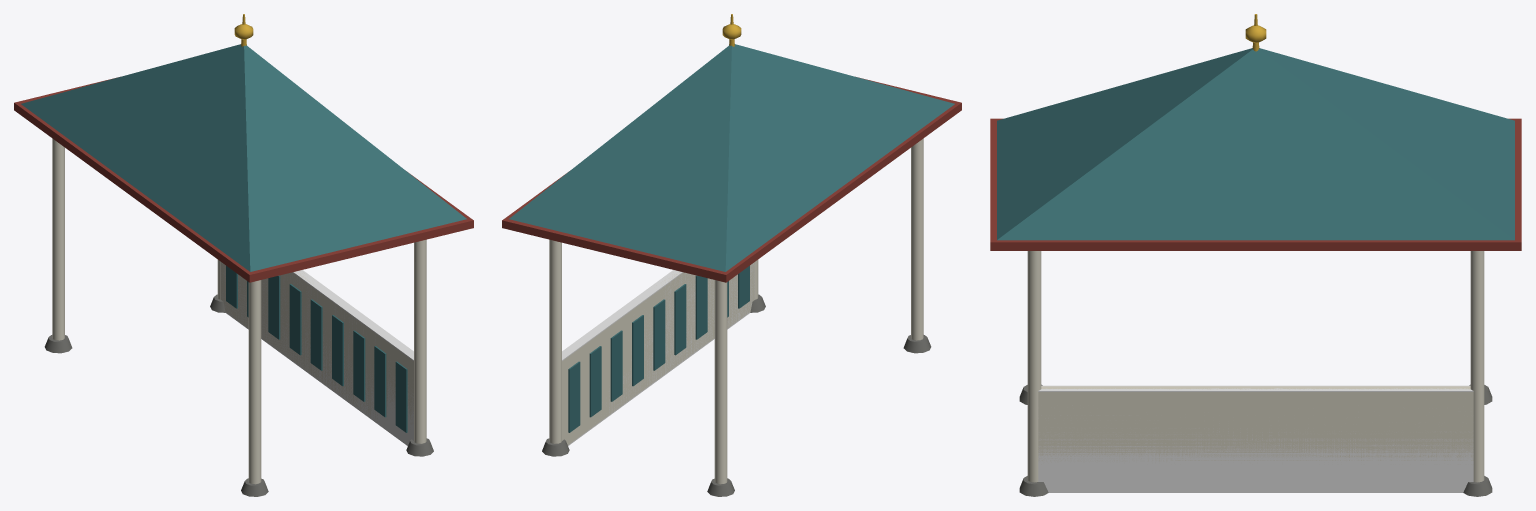
File: stop-5.glb
The picture shows the model from 3 angles, left to right: view 1: azimuth 30°, elevation 25°; view 2: azimuth 150°, elevation 25°; view 3: azimuth 270°, elevation 25°; orthographic projection. The views are drawn at different scales.
Visible parts, largest first — view 1: 02_paint0, 00_#d8d4c4, 03_paint2, solid, 01_#6e6e6a; view 2: 02_paint0, 00_#d8d4c4, 03_paint2, solid, 01_#6e6e6a; view 3: 02_paint0, 00_#d8d4c4, solid, 03_paint2, 01_#6e6e6a.
Part boxes in pixels (<box>): 02_paint0: <box>21,44,466,432</box>; 00_#d8d4c4: <box>52,138,426,484</box>; 03_paint2: <box>14,76,473,282</box>; solid: <box>221,263,413,445</box>; 01_#6e6e6a: <box>44,294,433,496</box>; 02_paint0: <box>509,44,954,432</box>; 00_#d8d4c4: <box>549,138,923,484</box>; 03_paint2: <box>502,76,961,282</box>; solid: <box>562,263,754,445</box>; 01_#6e6e6a: <box>542,294,931,496</box>; 02_paint0: <box>997,48,1514,240</box>; 00_#d8d4c4: <box>1027,251,1484,482</box>; solid: <box>1038,385,1473,492</box>; 03_paint2: <box>990,118,1521,250</box>; 01_#6e6e6a: <box>1019,384,1492,496</box>.
Size of the model in its own units: 2.44 by 3.99 by 4.44.
